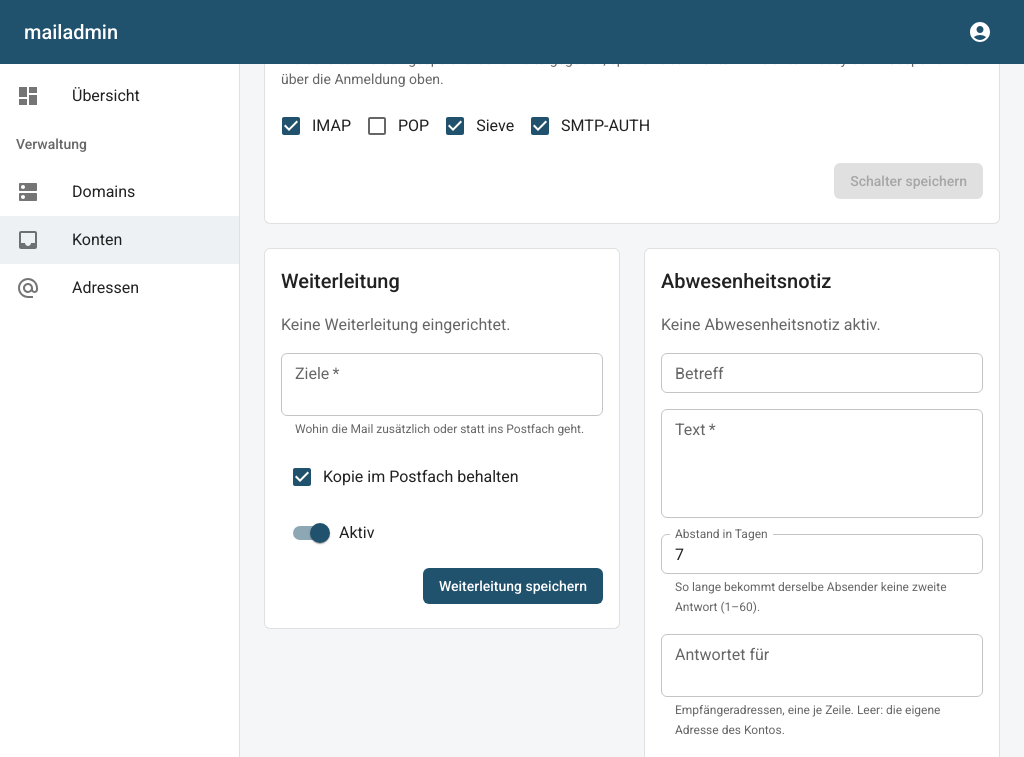
Test: forwards on the account page (A3) › sets up a forward without a copy and warns that the vacation notice then stays silent
(page scrolled)
Expected: the text "Keine Weiterleitung eingerichtet." is shown, x1=281 y1=315 x2=510 y2=334
Type "anna@elsewhere.test" into the text box labelled "Ziele *" at (442,385), box x1=295 y1=362 x2=589 y2=408
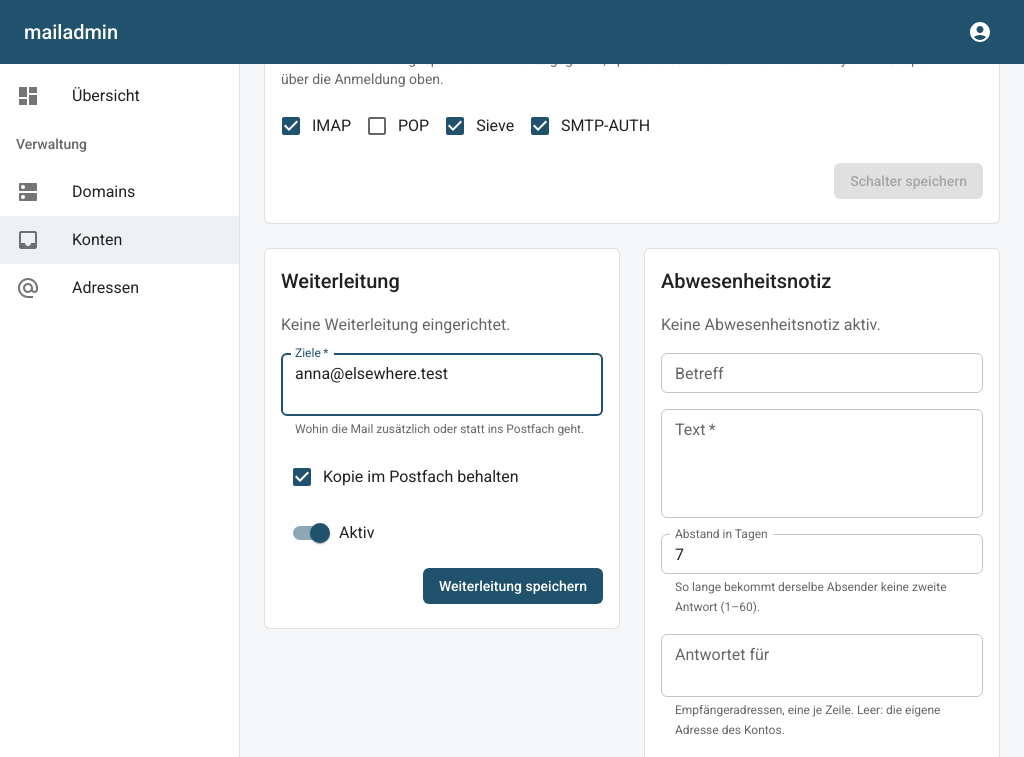
Click the checkbox labelled "Kopie im Postfach behalten" at (404,477), box x1=290 y1=465 x2=519 y2=489
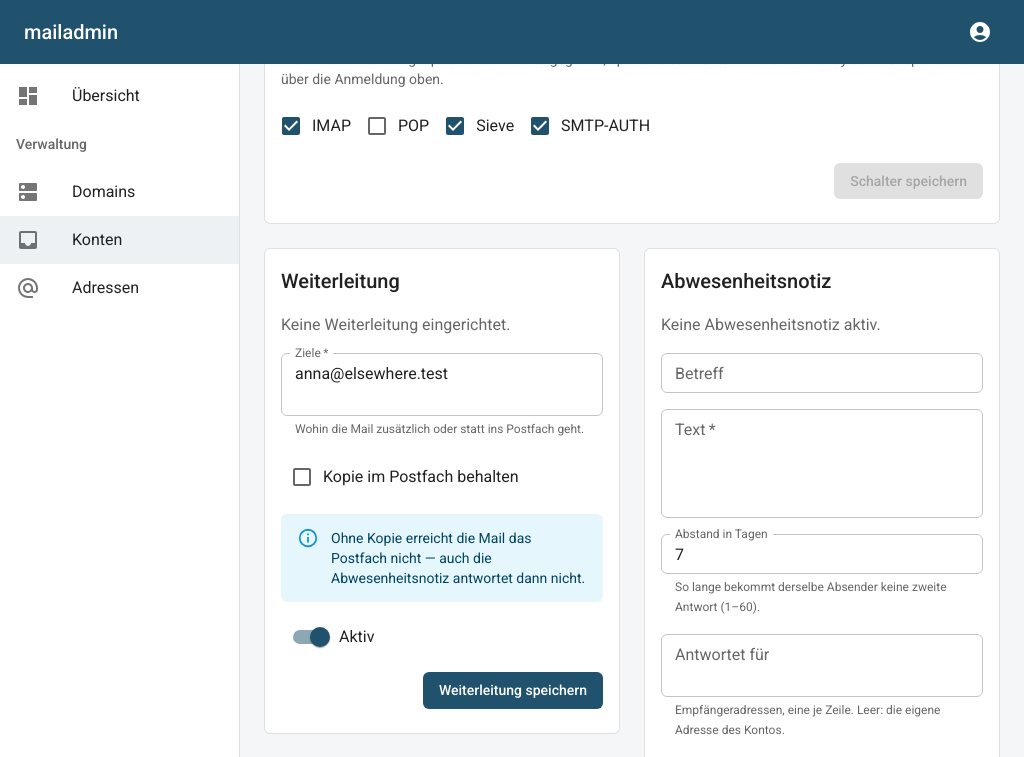
Expected: the text "auch die Abwesenheitsnotiz antwortet dann nicht" is shown, x1=331 y1=530 x2=585 y2=586
Click the button "Weiterleitung speichern" at (513,690), box x1=423 y1=672 x2=603 y2=708
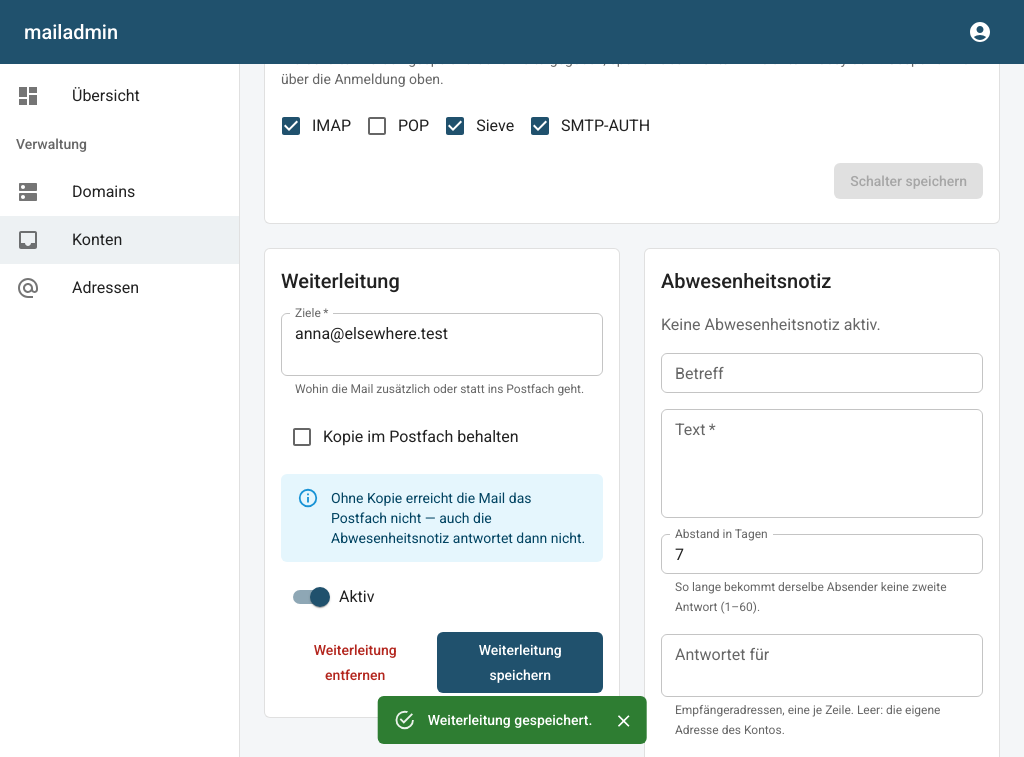
Expected: the text "Weiterleitung gespeichert." is shown, x1=428 y1=712 x2=592 y2=728
